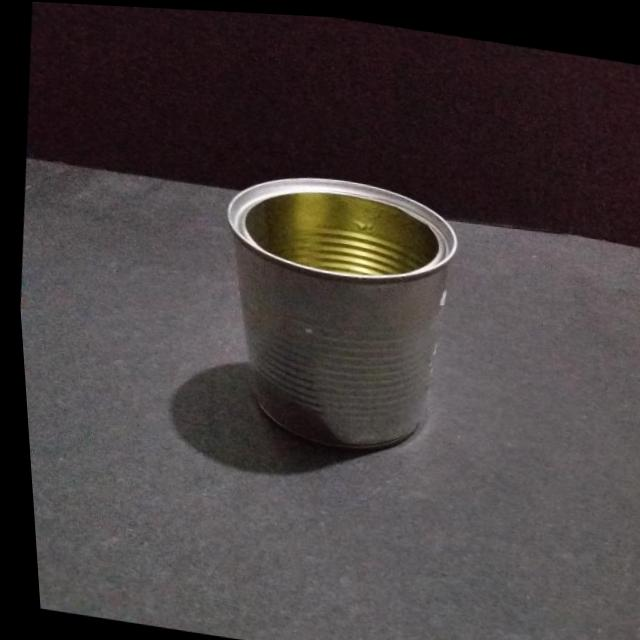metal: (192, 155, 481, 473)
